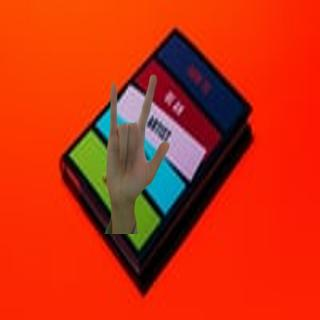ILY: (62, 83, 181, 227)
